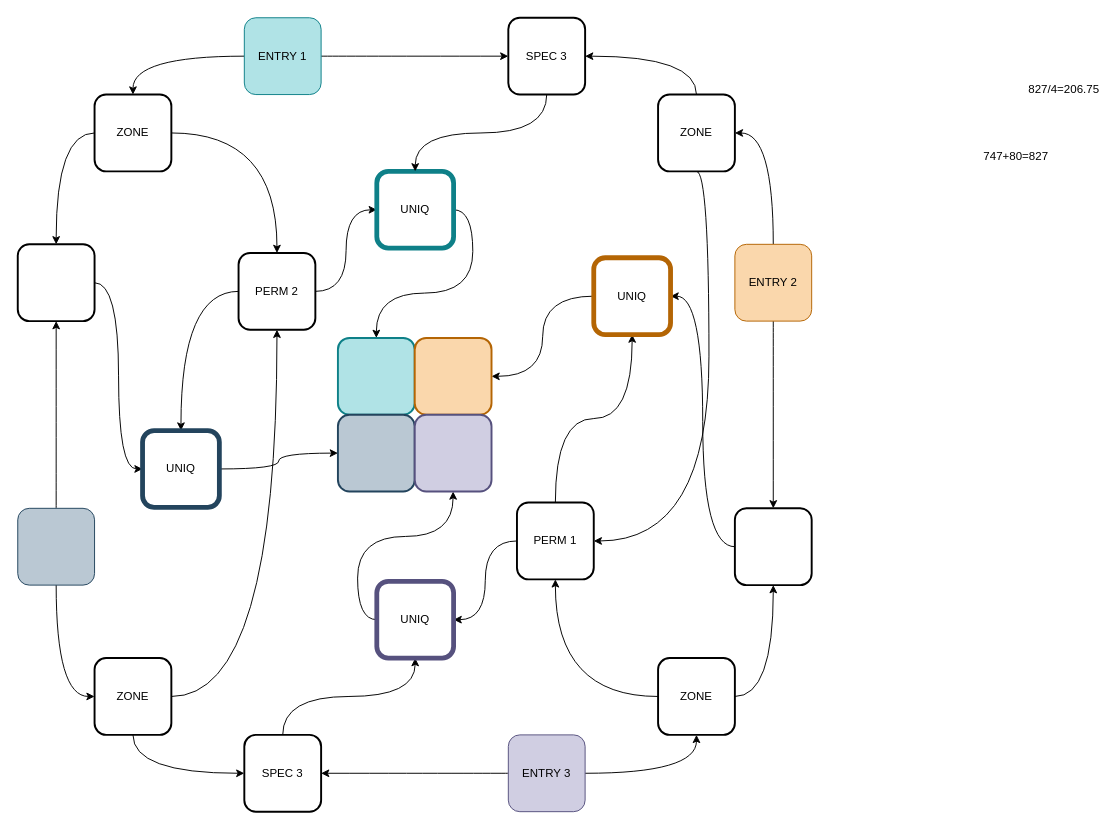
This 1116x828 diagram has some shape labels left out. The centre of each missing label's shape, as x and y in pixels:
"ENTRY 4" belongs at point 56,546.
"SPEC 1" belongs at point 55,282.
"SPEC 2" belongs at point 772,546.
